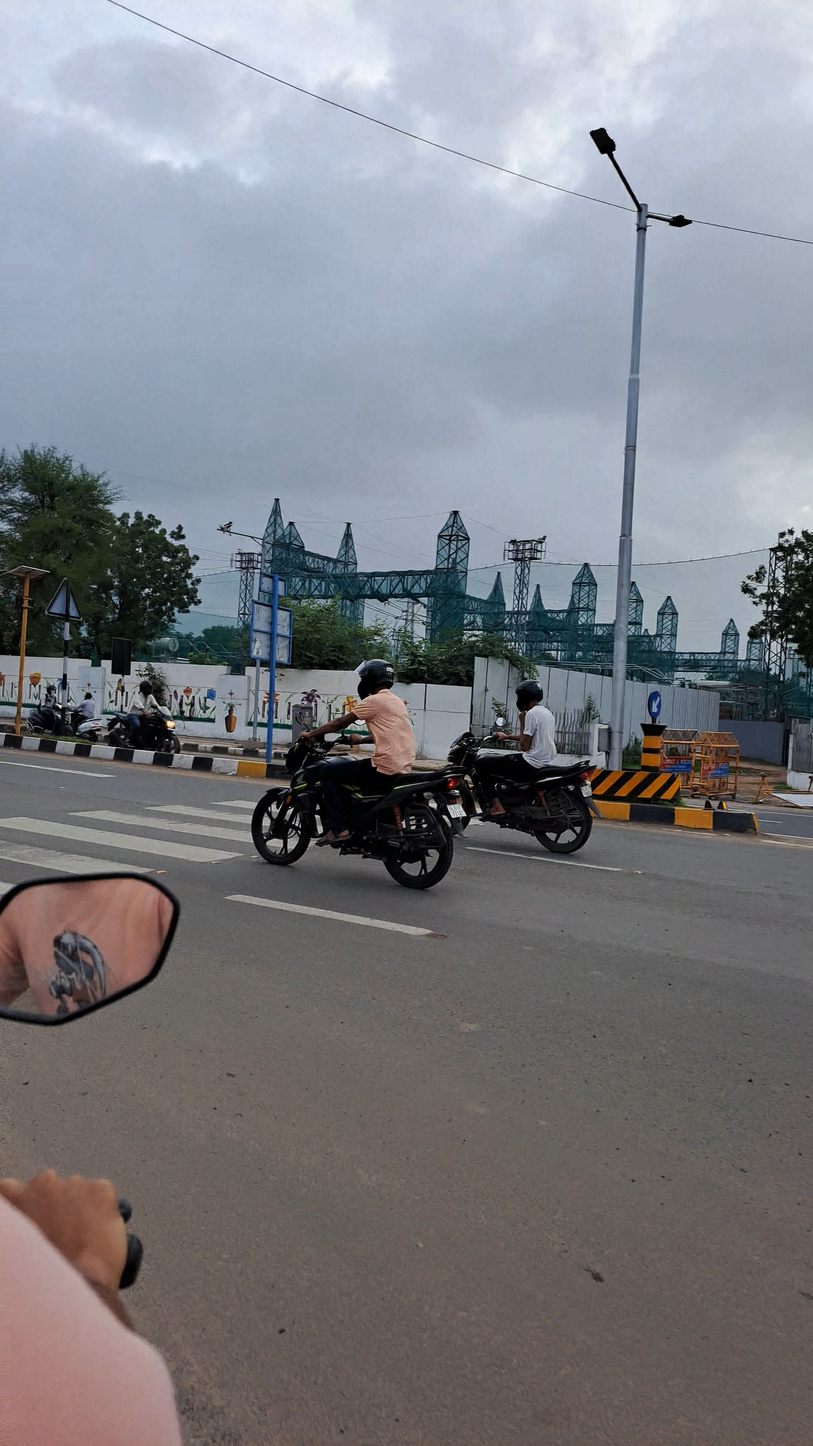BikeWithRider: (249, 657, 466, 890), (441, 676, 604, 854), (105, 678, 184, 754), (25, 684, 73, 737), (65, 691, 103, 743)
Helmet: (353, 657, 396, 701), (513, 676, 545, 714), (138, 679, 153, 697), (45, 685, 57, 696)
NoHelmet: (82, 691, 93, 702)
